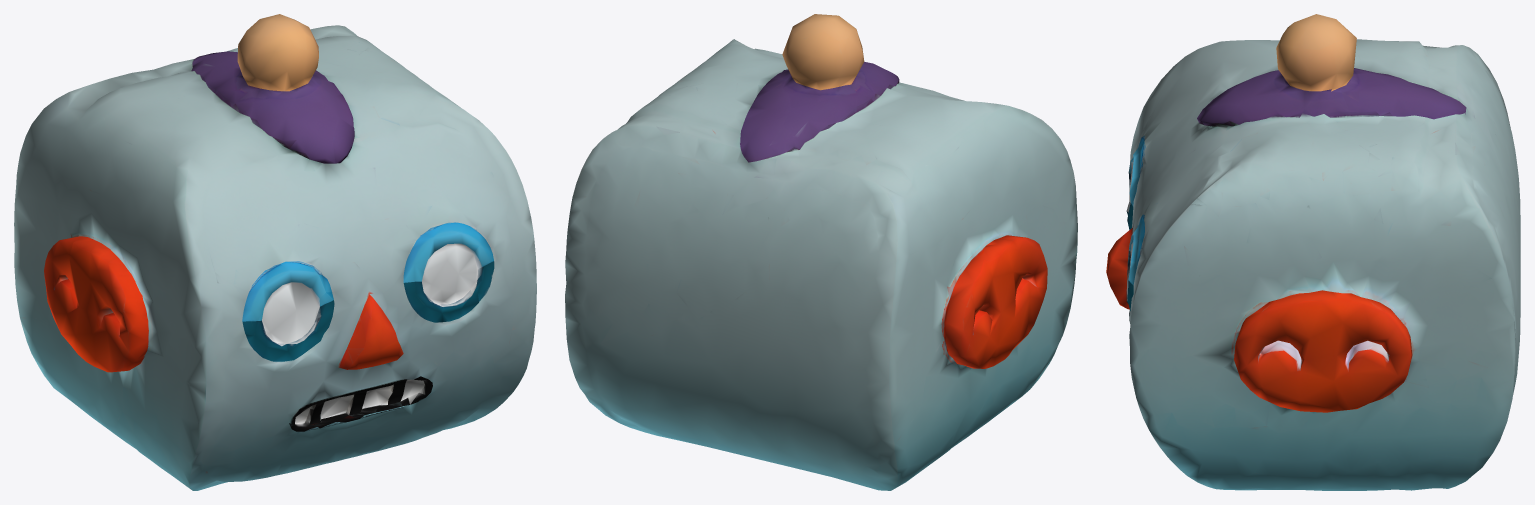
File: robot_head.obj
The picture shows the model from 3 angles, left to right: view 1: azimuth 30°, elevation 25°; view 2: azimuth 150°, elevation 25°; view 3: azimuth 270°, elevation 25°; orthographic projection. The views are drawn at different scales.
Bounding box in the file's own units: 0.5682 × 0.6004 × 0.5316.
1 material, 1 textured.
